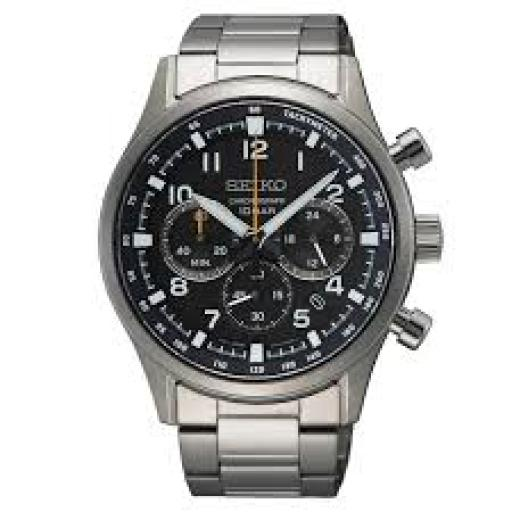KolSaati: (87, 0, 446, 512)
